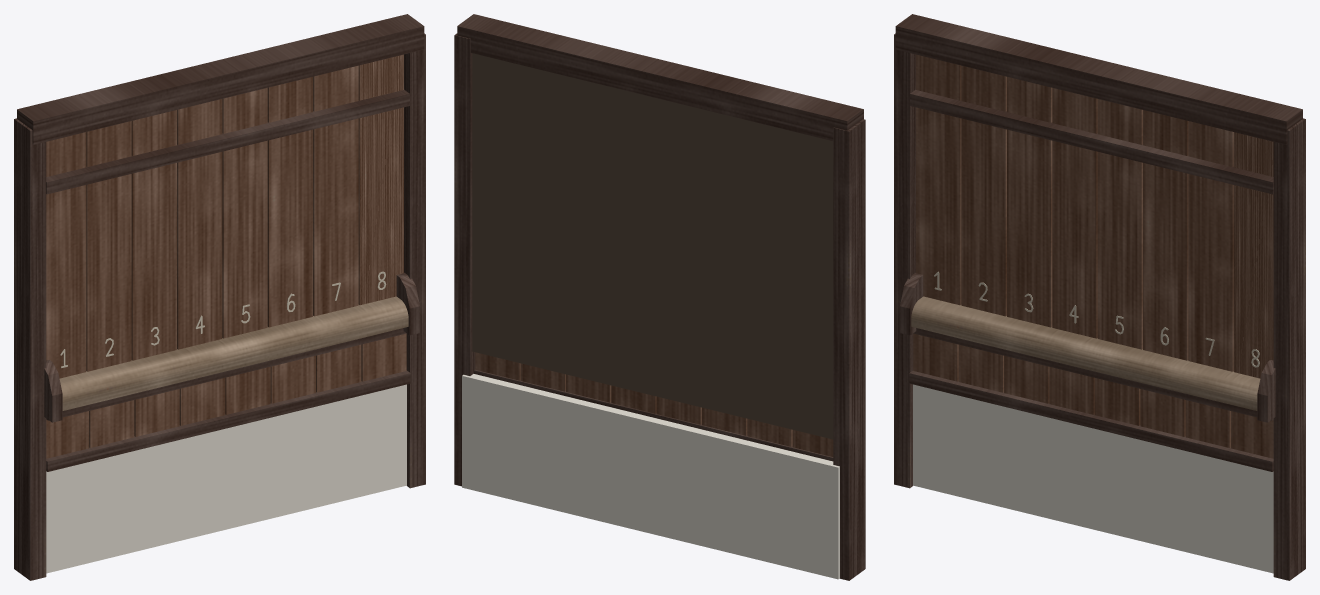
The model's file is zheng-residence-numbered-shutters-near.glb.
3 renders of one model, left to right at view 1: azimuth 30°, elevation 25°; view 2: azimuth 150°, elevation 25°; view 3: azimuth 330°, elevation 25°, orthographic.
Parts seen in each view (by area): view 1: 郑生官宅190号沿街木排门的八块编号板与圆边横档; view 2: 郑生官宅190号沿街木排门的八块编号板与圆边横档; view 3: 郑生官宅190号沿街木排门的八块编号板与圆边横档.
Boxes of the visible parts, left/top/right/bottom form: 郑生官宅190号沿街木排门的八块编号板与圆边横档: left=14, top=14, right=425, bottom=580; 郑生官宅190号沿街木排门的八块编号板与圆边横档: left=454, top=14, right=865, bottom=580; 郑生官宅190号沿街木排门的八块编号板与圆边横档: left=894, top=14, right=1305, bottom=580.
Size of the model in its own units: 2 by 2.22 by 0.2265.
Materials: 6 (3 with a texture image).
